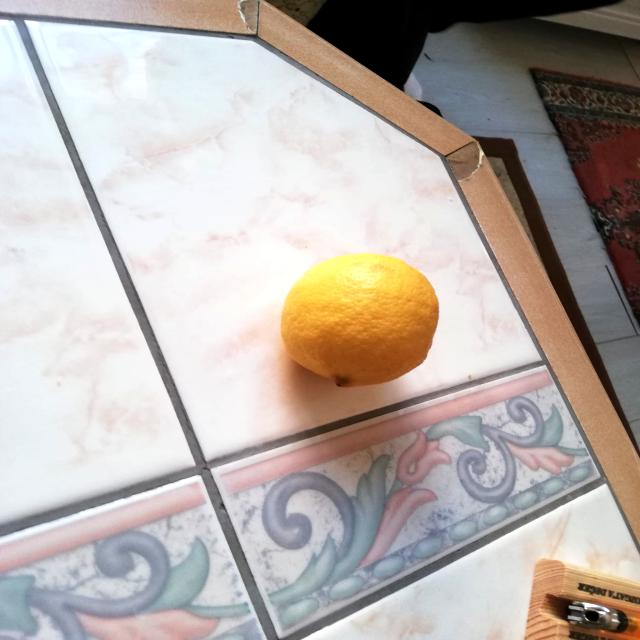lemon: (263, 236, 454, 402)
